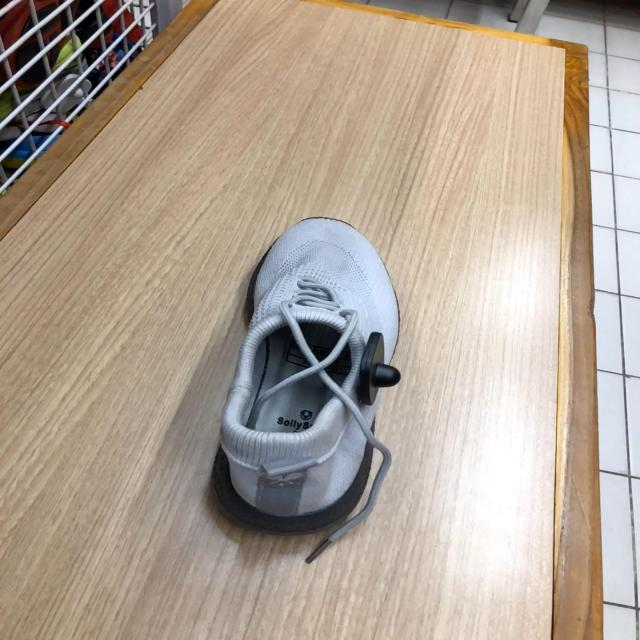shoe: (215, 218, 401, 536)
